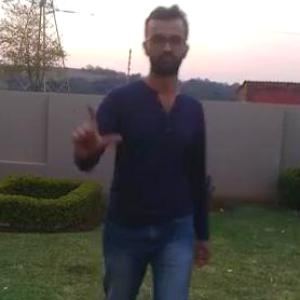land_hand: (69, 89, 122, 162)
